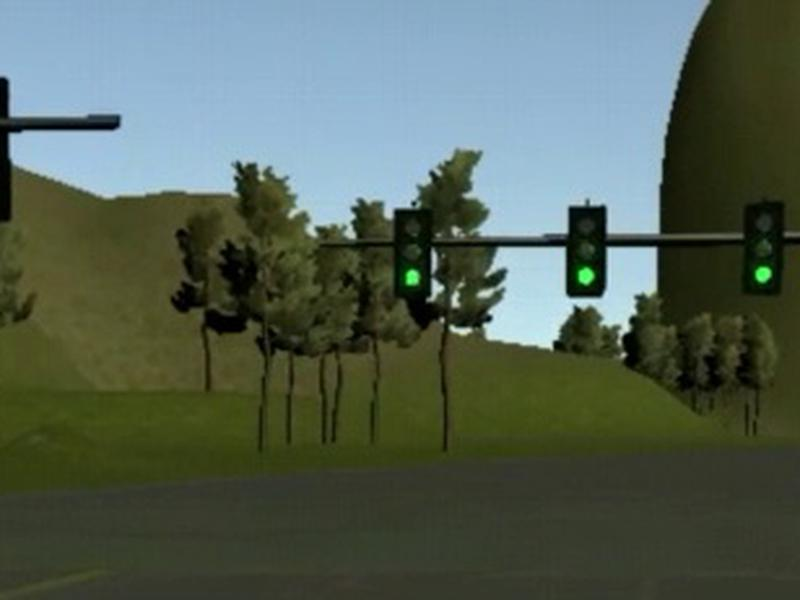Green: (741, 200, 786, 294), (565, 204, 606, 298), (394, 209, 431, 301)
